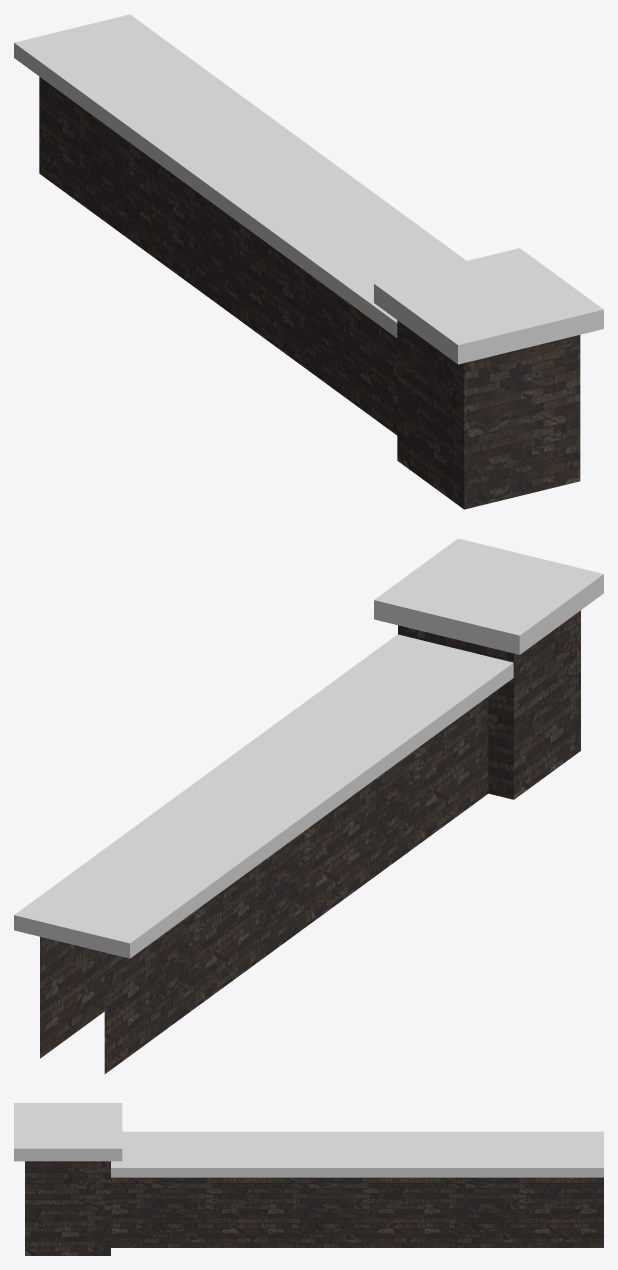
File: Wall.fbx
The picture shows the model from 3 angles, top to bottom: view 1: azimuth 30°, elevation 25°; view 2: azimuth 150°, elevation 25°; view 3: azimuth 270°, elevation 25°; orthographic projection. The views are drawn at different scales.
Parts seen in each view (by area): view 1: Wall, Cap; view 2: Cap, Wall; view 3: Wall, Cap.
Part boxes in pixels (<box>): Wall: <box>39,76,580,509</box>; Cap: <box>14,14,603,364</box>; Cap: <box>14,538,603,958</box>; Wall: <box>40,610,580,1073</box>; Wall: <box>25,1161,603,1255</box>; Cap: <box>14,1103,603,1177</box>.
Bounding box in the file's own units: 251 × 287 × 1370.
